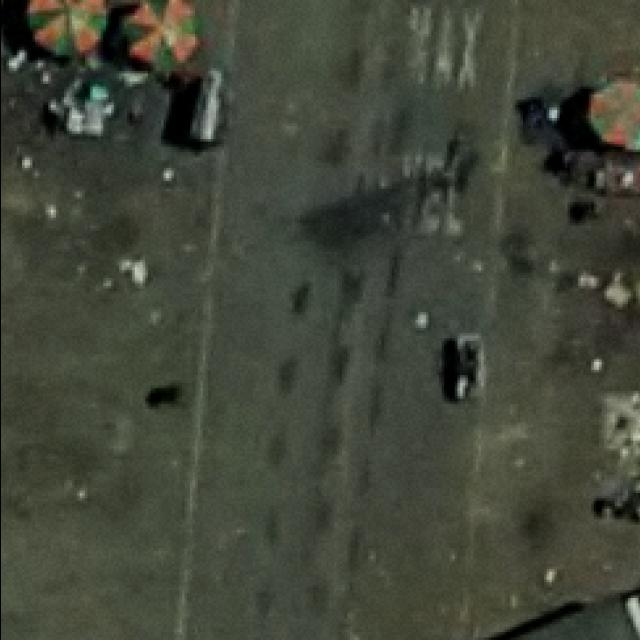vendedor_ambulante: (2, 0, 110, 66), (556, 81, 640, 163), (116, 0, 204, 76)
